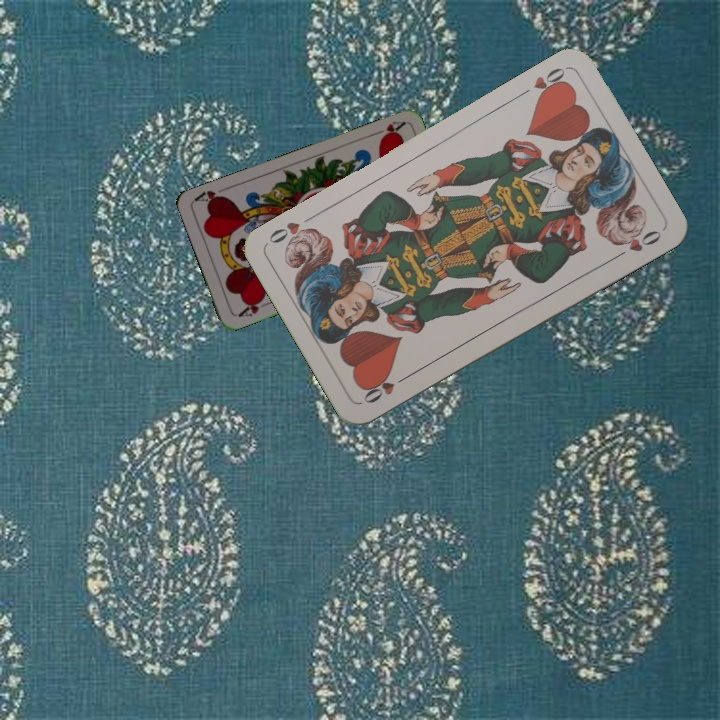HA: (367, 117, 407, 143), (234, 294, 272, 320)
HO: (515, 63, 570, 103), (359, 370, 412, 407)
